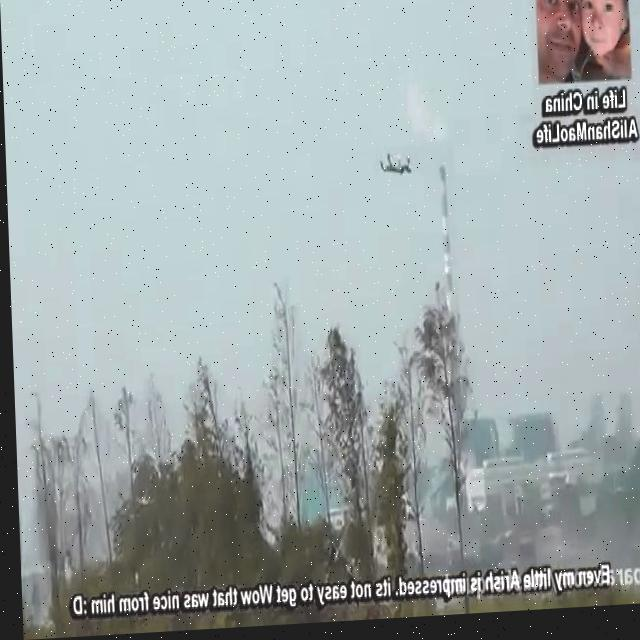drone: (377, 150, 413, 186)
